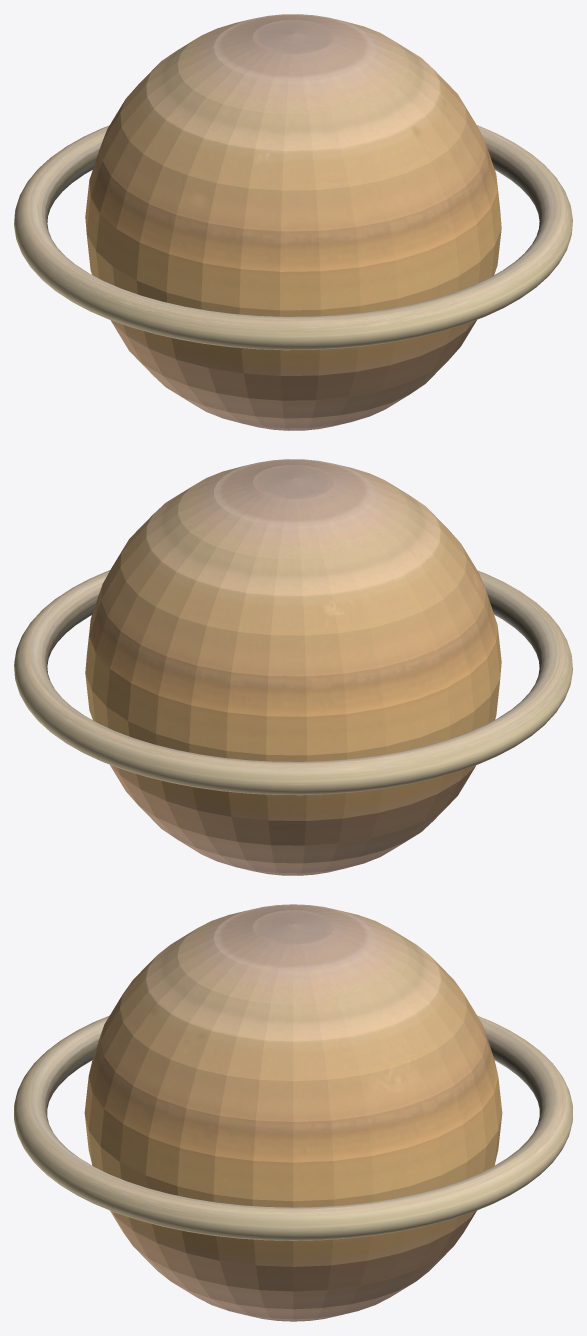
Rendered from saturn.glb.
The picture shows the model from 3 angles, top to bottom: view 1: azimuth 30°, elevation 25°; view 2: azimuth 150°, elevation 25°; view 3: azimuth 270°, elevation 25°; orthographic projection.
Parts seen in each view (by area): view 1: Sphere, Torus; view 2: Sphere, Torus; view 3: Sphere, Torus.
Boxes of the visible parts, x1,y1,x2,y2 form: Sphere: (85, 14, 501, 430); Torus: (14, 125, 572, 350); Sphere: (85, 459, 501, 875); Torus: (14, 570, 572, 795); Sphere: (84, 904, 502, 1321); Torus: (14, 1015, 572, 1240).
Size of the model in its own units: 2.68 by 2 by 2.68.
Materials: 2 (2 with a texture image).
